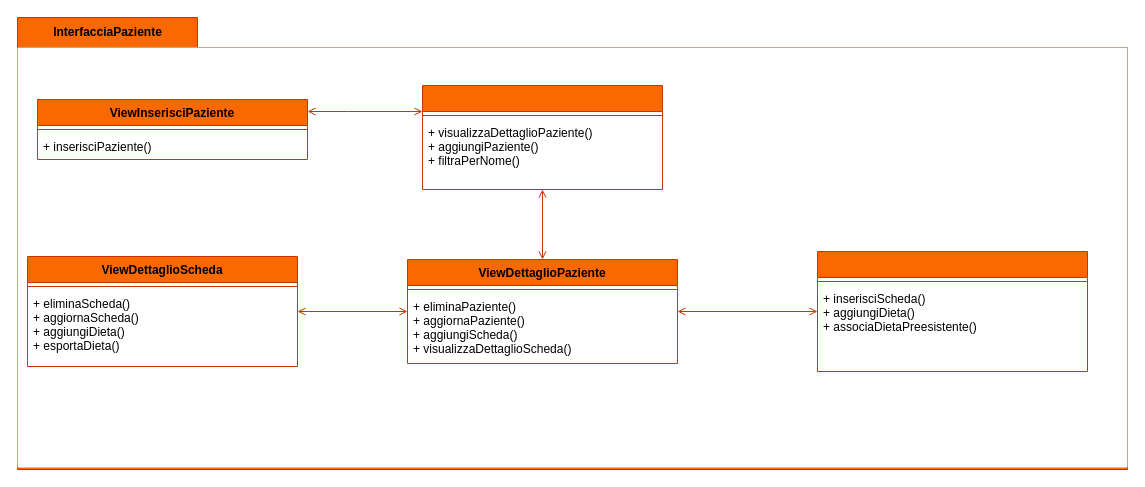
Image size: 1145x487. Some labels were removed from this diagram. The shapes that lost their labels are listed below. From the top down, each one's box as (x1, y1, x2, y2) in pixels, then its label:
(422, 84, 662, 190): ViewElencoPazienti
(816, 250, 1088, 372): ViewInserisciScheda
